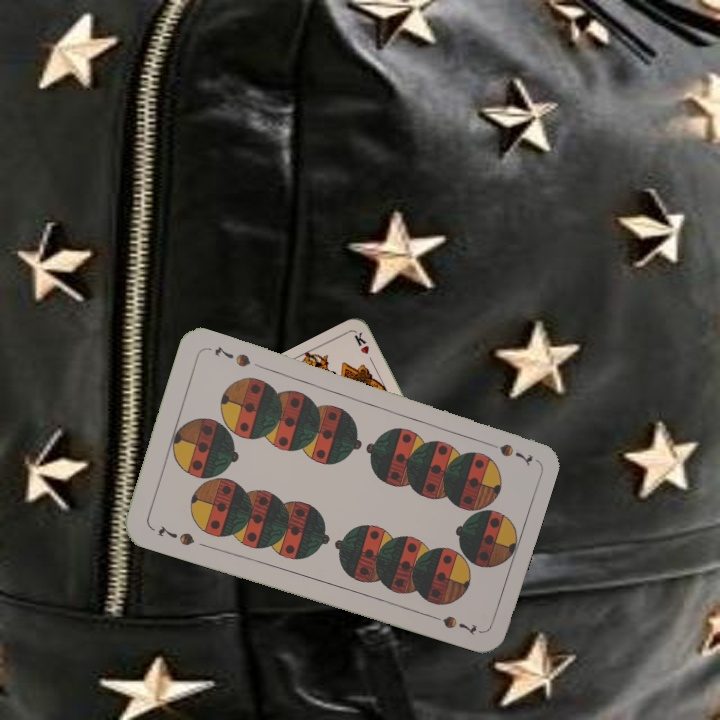S7: (478, 436, 536, 465), (153, 521, 197, 548)
